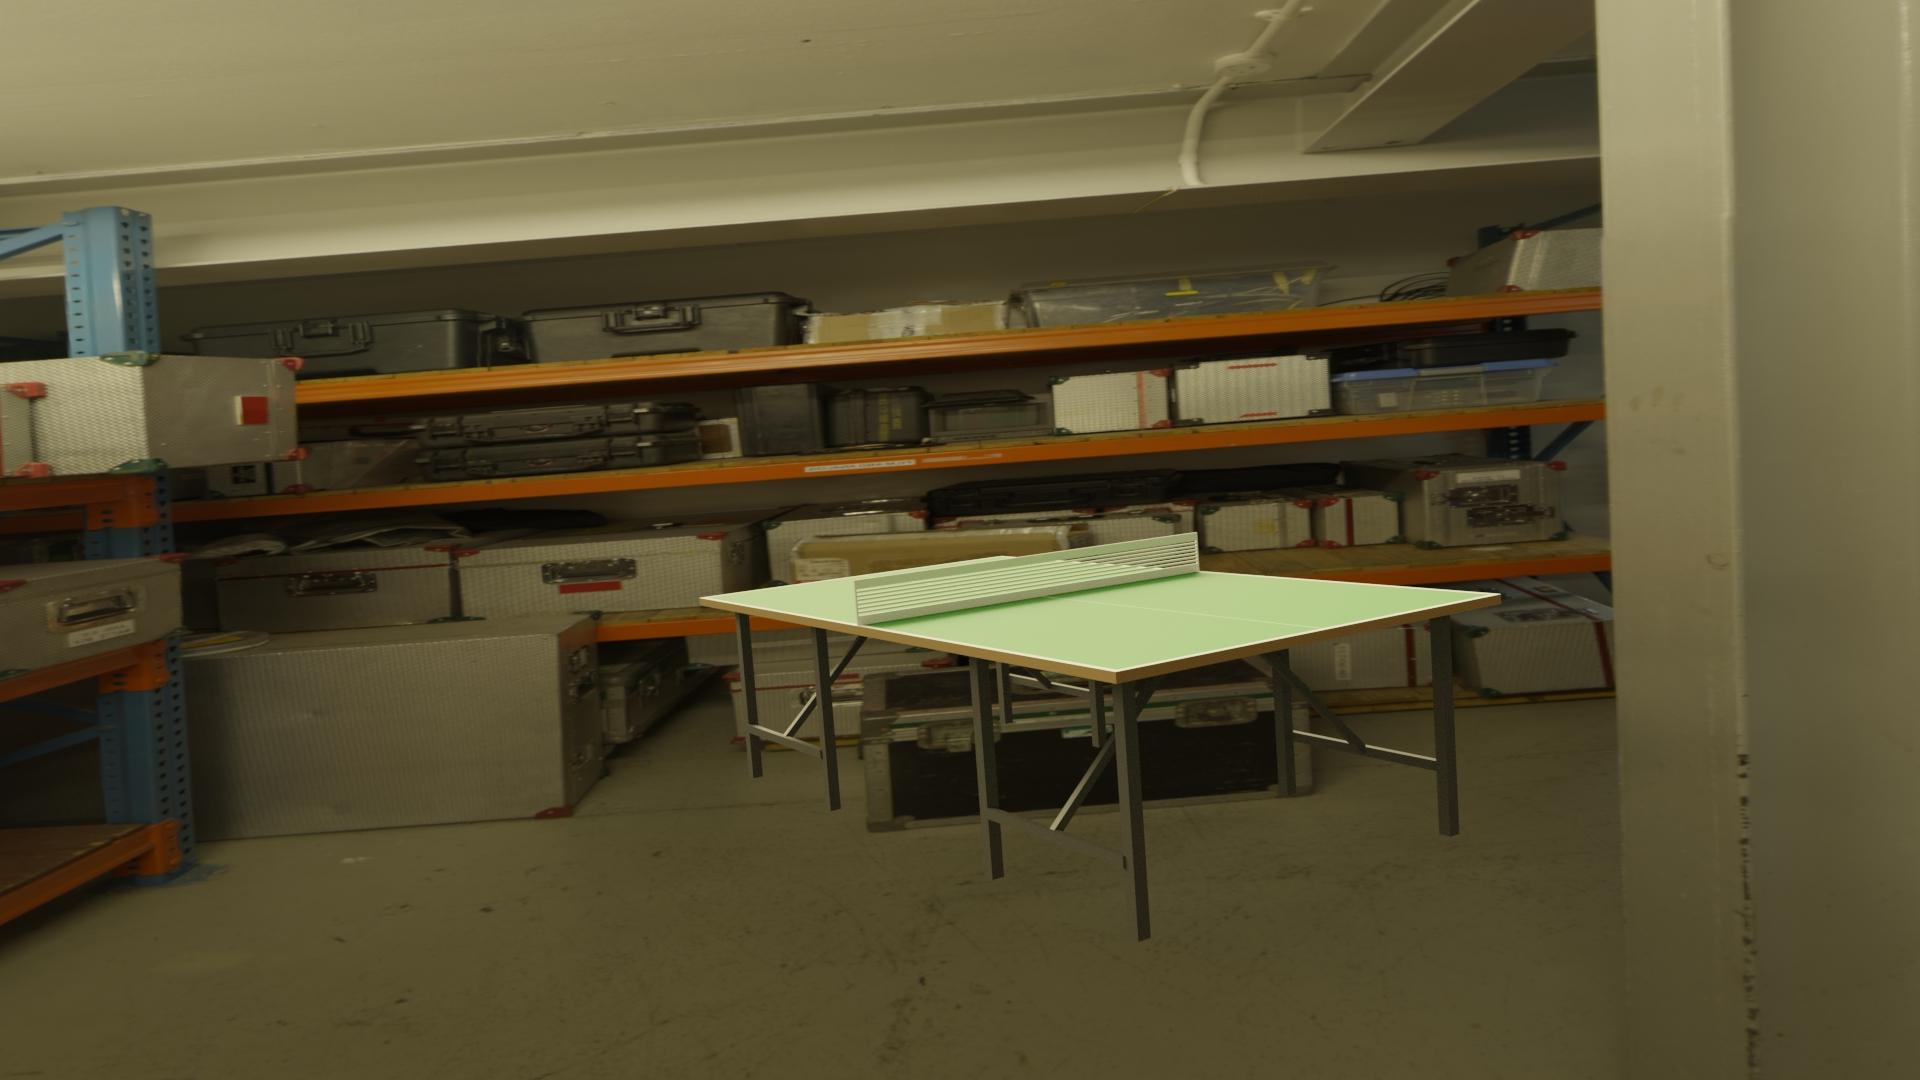table: (705, 556, 1491, 670)
